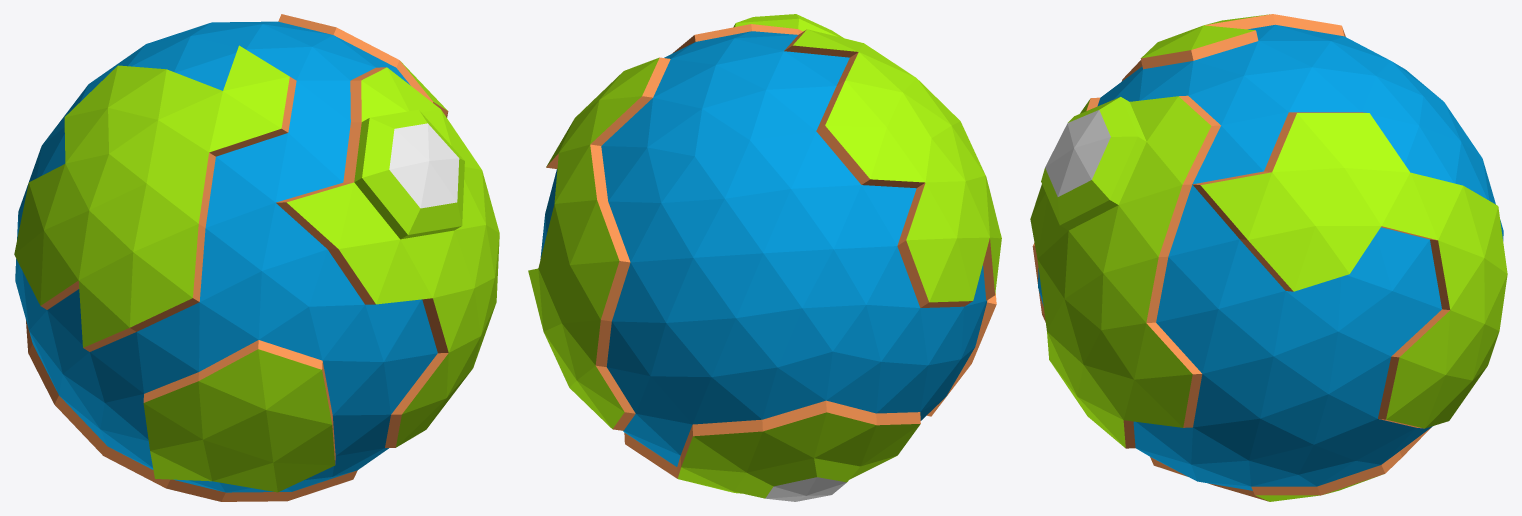
The model's file is Planet1.fbx.
3 views of the same model, side by side, from view 1: azimuth 30°, elevation 25°; view 2: azimuth 150°, elevation 25°; view 3: azimuth 270°, elevation 25° (orthographic). The views are drawn at different scales.
Parts seen in each view (by area): view 1: Icosphere; view 2: Icosphere; view 3: Icosphere.
Boxes of the visible parts, x1,y1,x2,y2 form: Icosphere: (14, 14, 499, 501); Icosphere: (528, 14, 1001, 501); Icosphere: (1030, 14, 1507, 501).
Bounding box in the file's own units: 393 × 400 × 393.
Materials: 1 (1 with a texture image).
